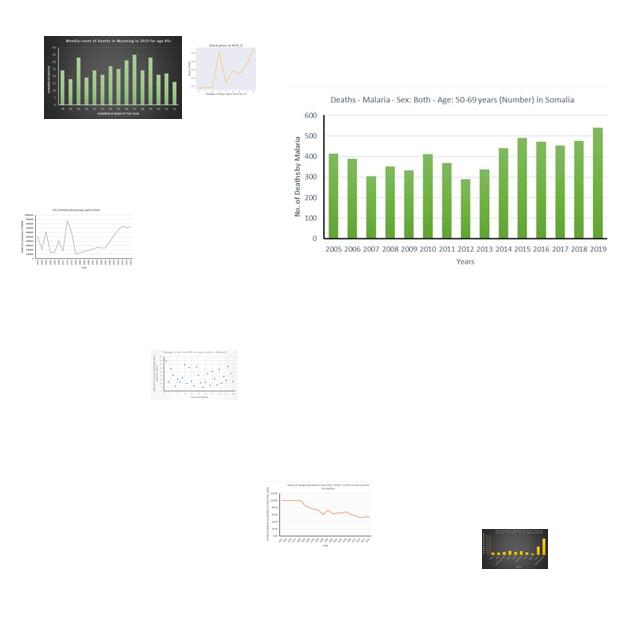Graph: (284, 87, 611, 269), (44, 36, 182, 119), (264, 481, 373, 549), (20, 207, 134, 270), (186, 39, 264, 98), (151, 350, 238, 400), (482, 529, 548, 569)
